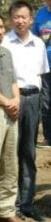boots: (0, 214, 23, 222), (0, 209, 11, 222)
